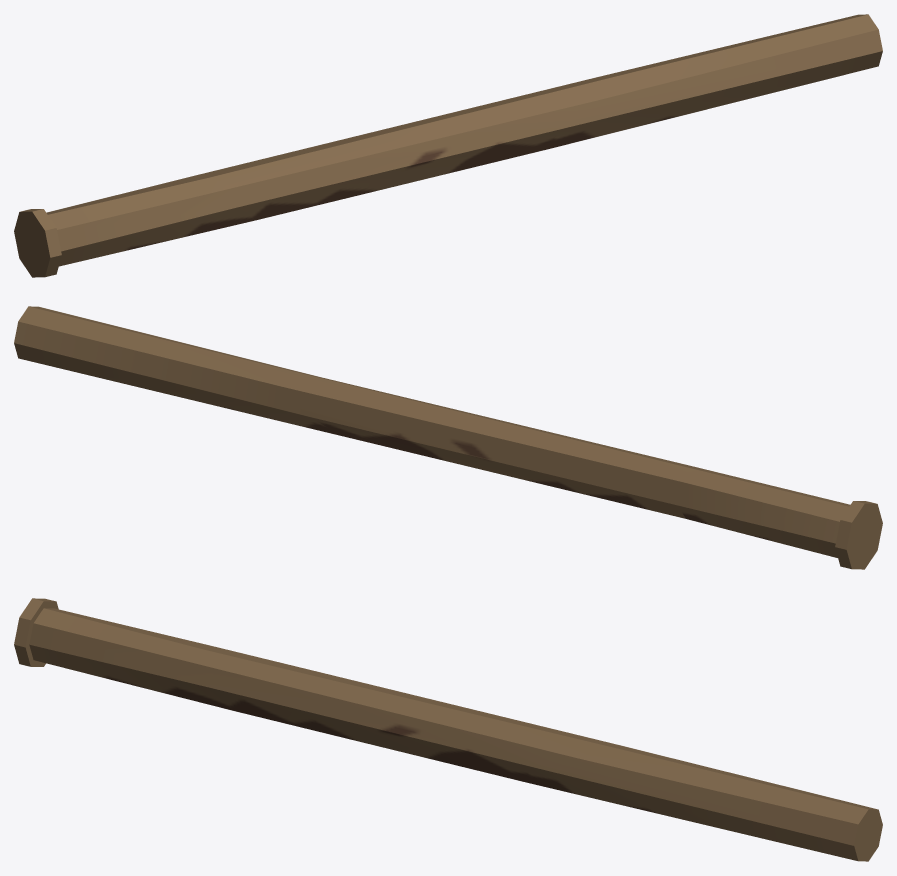
Rendered from SM_Prop_Pipe_02_Straight_02.fbx.
The picture shows the model from 3 angles, top to bottom: view 1: azimuth 30°, elevation 25°; view 2: azimuth 150°, elevation 25°; view 3: azimuth 330°, elevation 25°; orthographic projection.
Parts seen in each view (by area): view 1: SM_Prop_Pipe_02_Straight_02; view 2: SM_Prop_Pipe_02_Straight_02; view 3: SM_Prop_Pipe_02_Straight_02.
Boxes of the visible parts, x1,y1,x2,y2 form: SM_Prop_Pipe_02_Straight_02: (14, 14, 882, 277); SM_Prop_Pipe_02_Straight_02: (14, 306, 882, 569); SM_Prop_Pipe_02_Straight_02: (14, 598, 882, 861).
Bounding box in the file's own units: 252 × 18.95 × 18.95.
